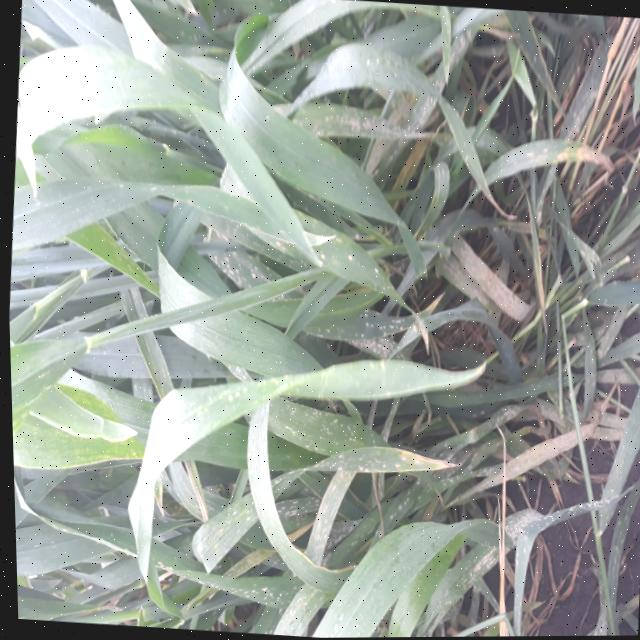powder_mildew: (186, 0, 500, 208), (184, 395, 436, 639), (87, 375, 208, 630), (284, 223, 465, 377), (521, 212, 627, 474), (12, 0, 206, 143), (402, 506, 559, 638), (186, 151, 298, 328), (416, 355, 553, 496), (438, 470, 640, 562), (8, 355, 135, 500), (520, 33, 610, 217), (437, 225, 514, 428), (58, 215, 174, 308), (195, 327, 307, 400), (600, 348, 640, 497), (567, 576, 637, 637)
